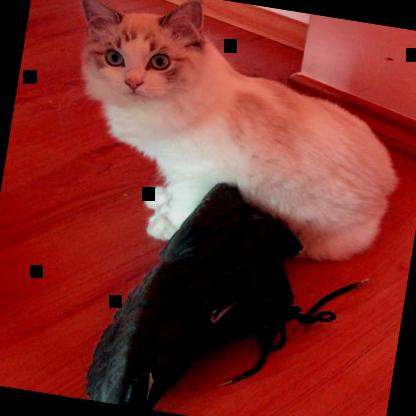cat: (43, 0, 415, 276)
